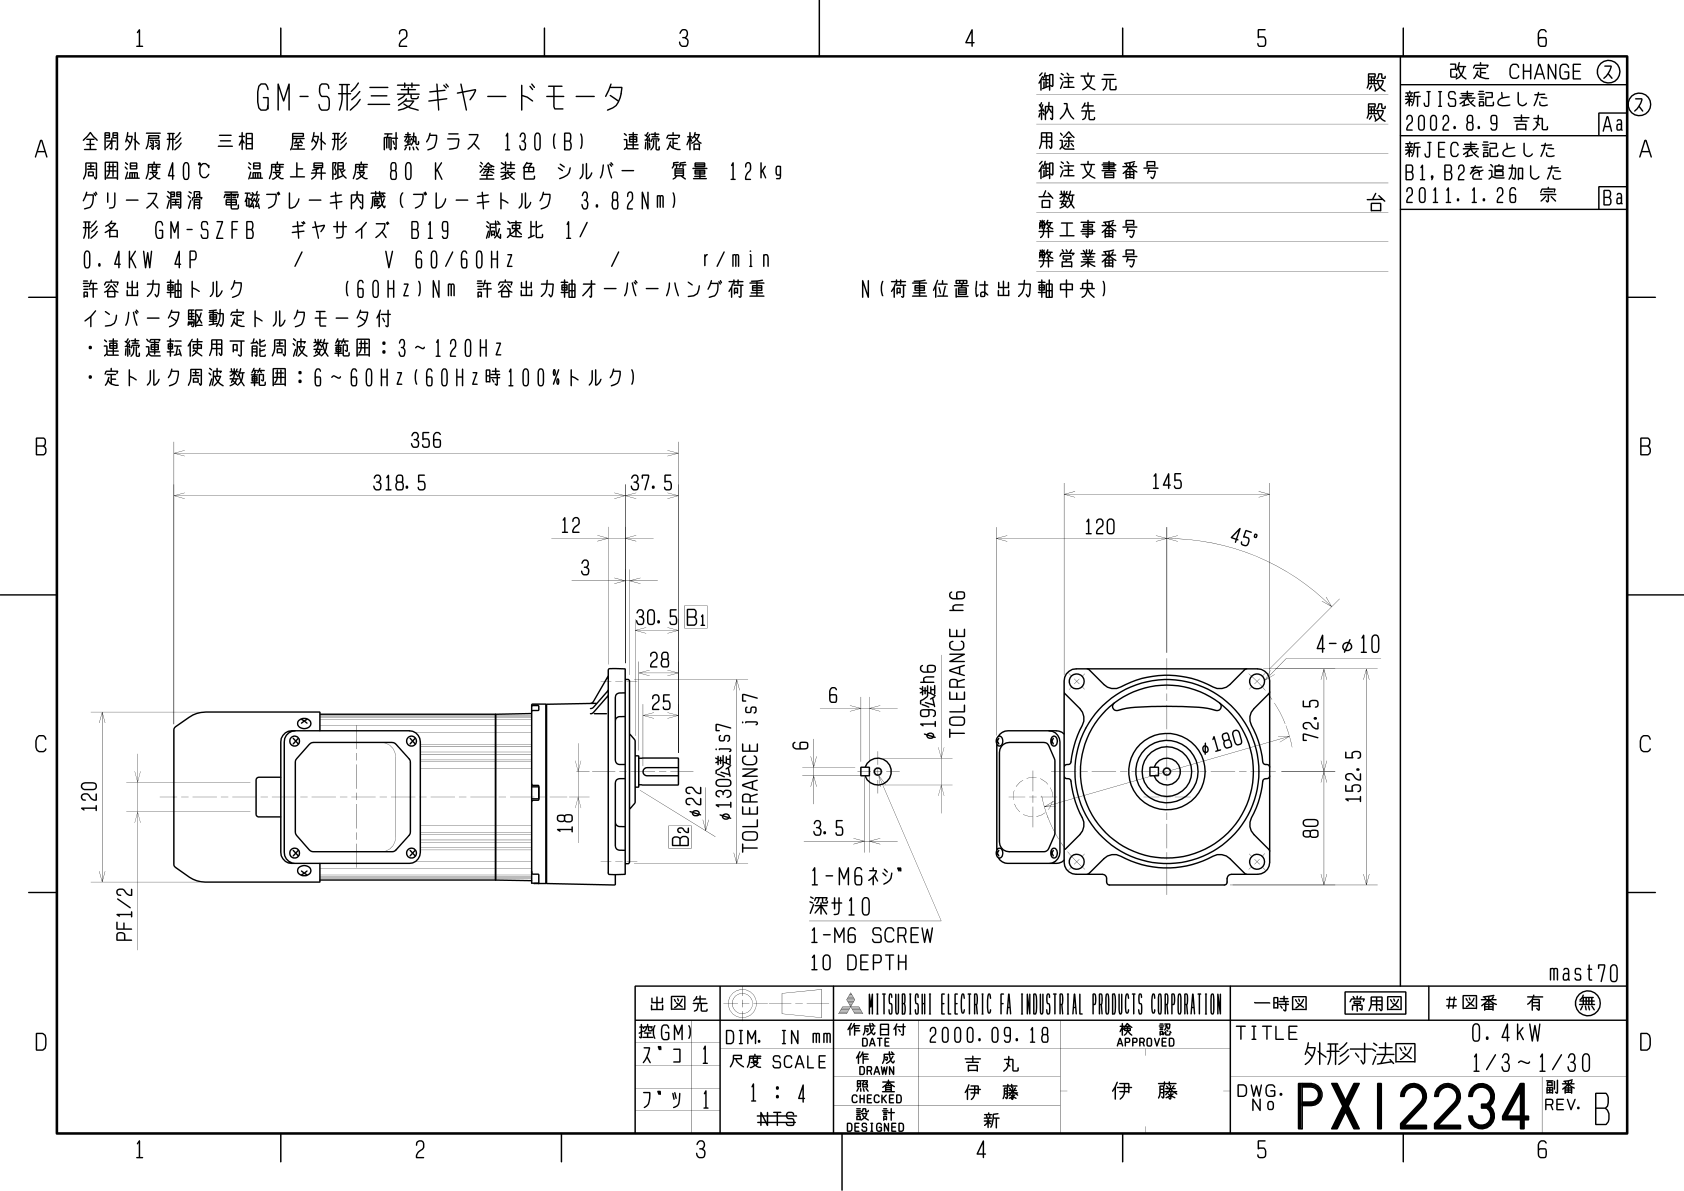GM_S_インバタ屋外＿三相_フランジ: (6, 15, 1674, 1179)
